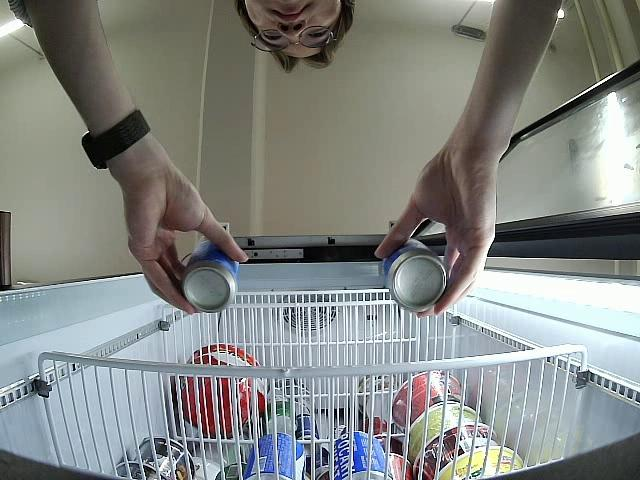00_hand: (374, 161, 498, 315), (127, 178, 249, 313)
15_letsbe: (373, 236, 450, 310), (179, 239, 240, 310)
